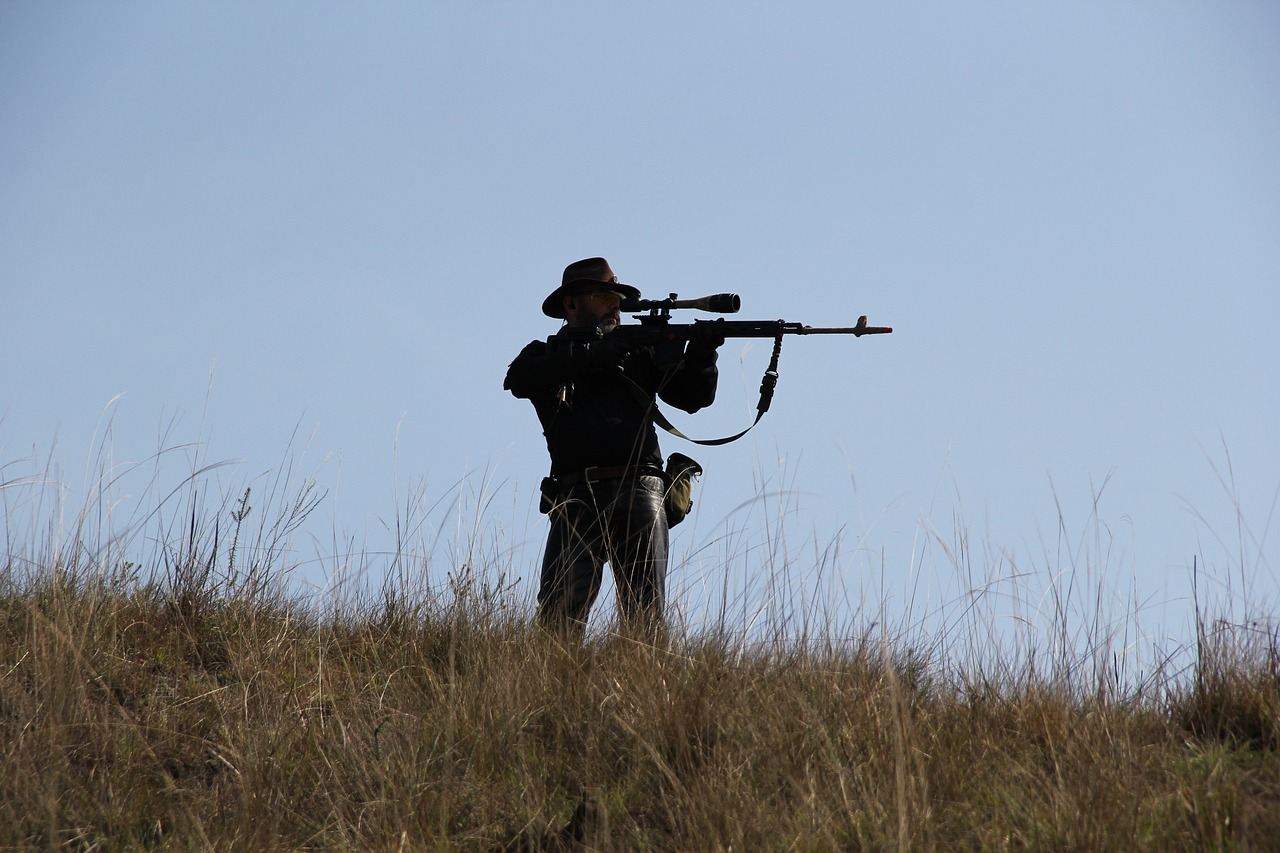gun: (541, 290, 894, 383)
